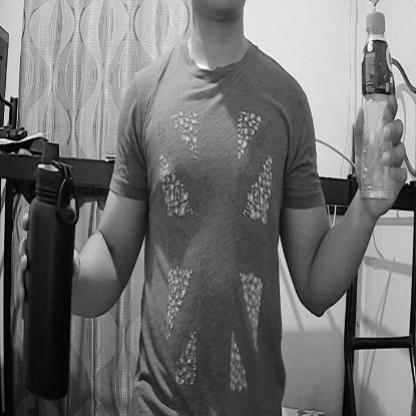Plastic Bottle: (354, 7, 398, 210)
